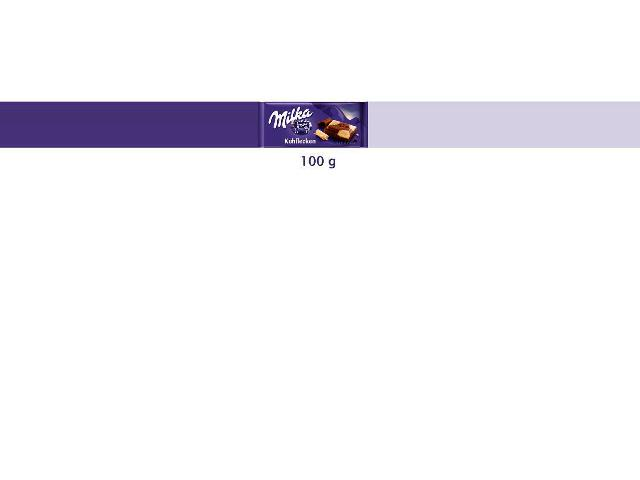chocolate: (257, 101, 368, 149)
